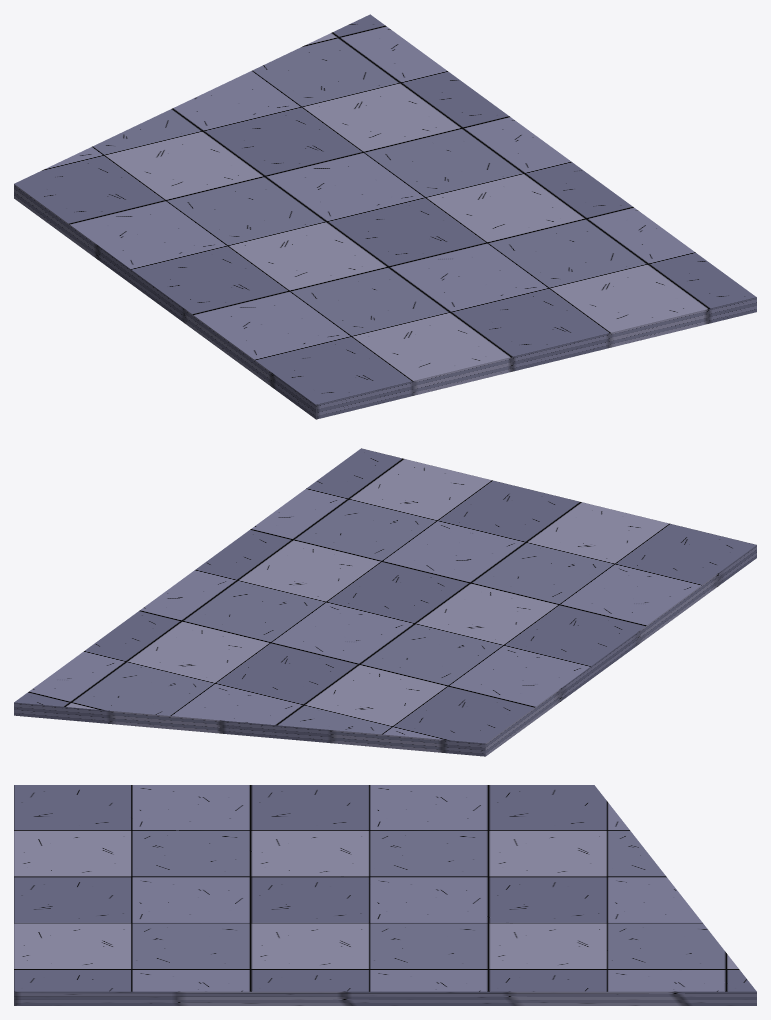
File: small_piece.fbx
3 views of the same model, one above another, from view 1: azimuth 30°, elevation 25°; view 2: azimuth 150°, elevation 25°; view 3: azimuth 270°, elevation 25° (orthographic). The views are drawn at different scales.
Visible parts, largest first — view 1: small_piece; view 2: small_piece; view 3: small_piece.
Boxes of the visible parts, <box> form: small_piece: <box>14,14,756,419</box>; small_piece: <box>14,448,756,756</box>; small_piece: <box>14,785,756,1005</box>.
Bounding box in the file's own units: 9.91 × 0.3152 × 15.06.
